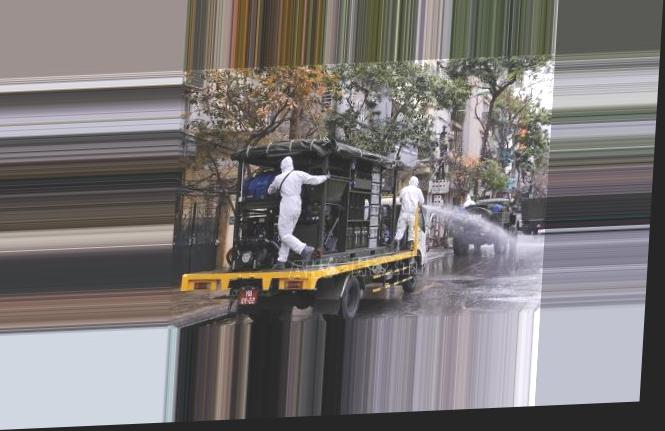License_Plate: (236, 289, 258, 308)
